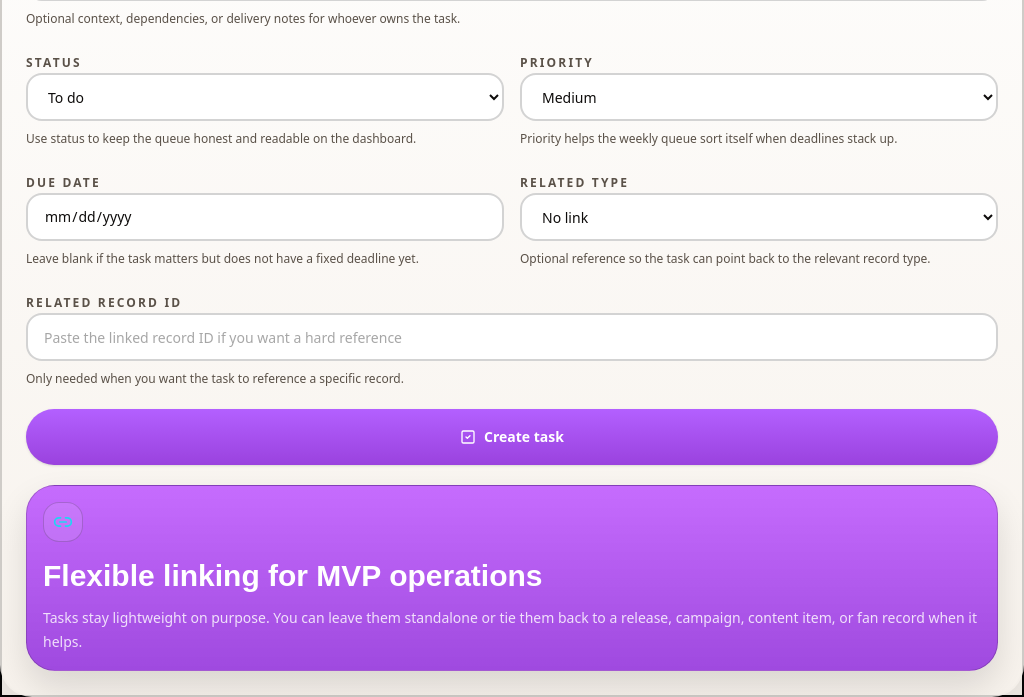
TaskForm › shows validation errors and blocks invalid submission
The width and height of the screenshot is (1024, 697).
(page scrolled)
Click the button "Create task" at [512, 437], box [26,409,998,465]
(page scrolled)
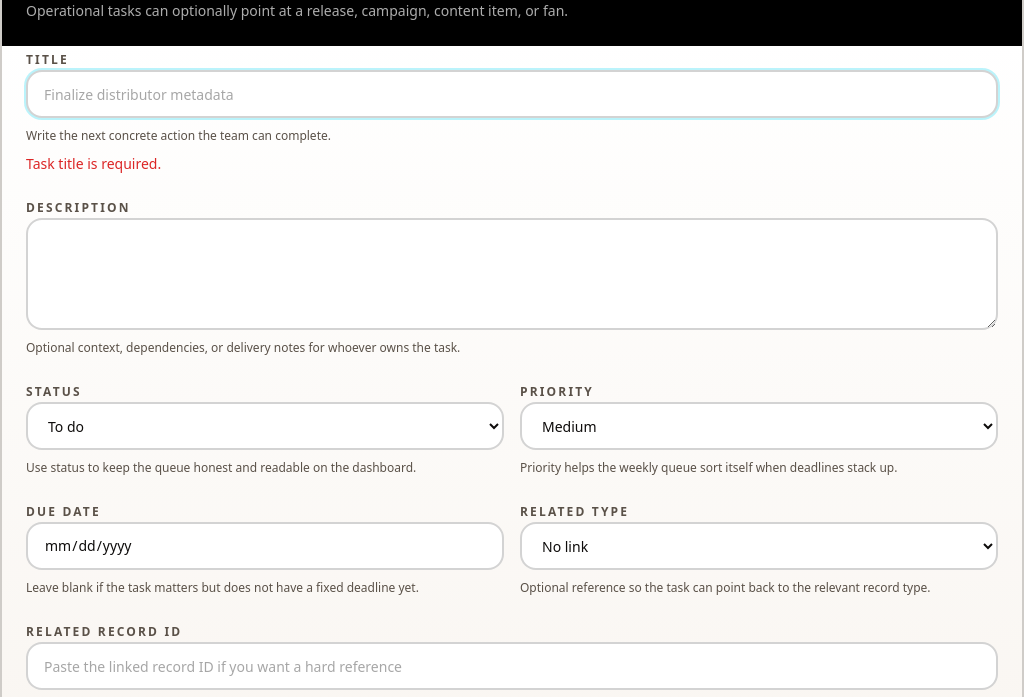
Now the text "Task title is required." is shown, box [26,154,161,173]
